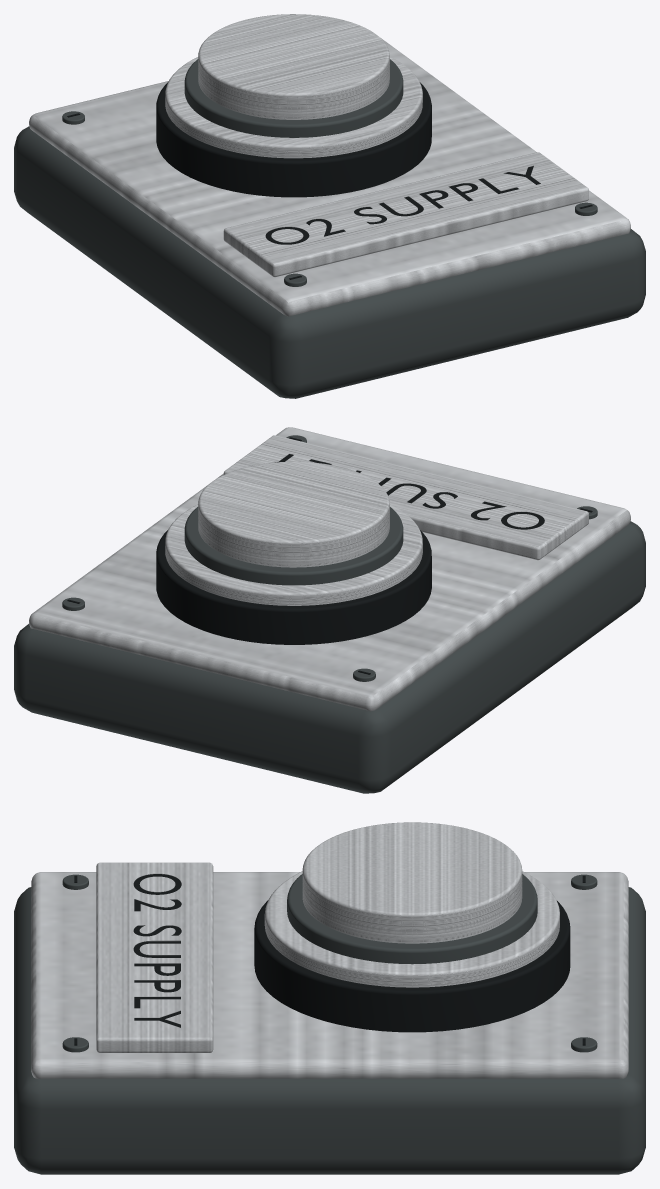
File: oxygen-control.glb
3 renders of one model, top to bottom at view 1: azimuth 30°, elevation 25°; view 2: azimuth 150°, elevation 25°; view 3: azimuth 270°, elevation 25°, orthographic. The views are drawn at different scales.
Visible parts, largest first — view 1: Cast control housing, Inset mounting face, Engraved aluminium plate, O2 press cap, Switch collar, Turned metal bezel, Switch travel reveal, Black enamel in engraved recess; view 2: Cast control housing, Inset mounting face, O2 press cap, Engraved aluminium plate, Switch collar, Turned metal bezel, Switch travel reveal, Black enamel in engraved recess; view 3: Cast control housing, Inset mounting face, O2 press cap, Engraved aluminium plate, Switch collar, Turned metal bezel, Switch travel reveal, Black enamel in engraved recess.
Boxes of the visible parts, <box> form: Cast control housing: <box>14,126,645,398</box>; Inset mounting face: <box>29,37,630,316</box>; Engraved aluminium plate: <box>223,152,588,277</box>; O2 press cap: <box>198,14,389,119</box>; Switch collar: <box>156,82,431,197</box>; Turned metal bezel: <box>165,57,422,158</box>; Switch travel reveal: <box>184,59,403,137</box>; Black enamel in engraved recess: <box>265,166,540,244</box>; Cast control housing: <box>14,521,645,793</box>; Inset mounting face: <box>29,427,630,711</box>; O2 press cap: <box>198,461,389,567</box>; Engraved aluminium plate: <box>223,435,588,560</box>; Switch collar: <box>156,530,431,644</box>; Turned metal bezel: <box>165,504,422,605</box>; Switch travel reveal: <box>184,507,403,585</box>; Black enamel in engraved recess: <box>275,454,544,529</box>; Cast control housing: <box>14,887,645,1174</box>; Inset mounting face: <box>31,872,628,1078</box>; O2 press cap: <box>302,822,522,943</box>; Engraved aluminium plate: <box>96,862,213,1052</box>; Switch collar: <box>254,900,570,1032</box>; Turned metal bezel: <box>264,871,559,987</box>; Switch travel reveal: <box>287,874,537,964</box>; Black enamel in engraved recess: <box>133,874,181,1027</box>.
Size of the model in its own units: 0.144 by 0.068 by 0.184.
3 materials, 1 textured.
